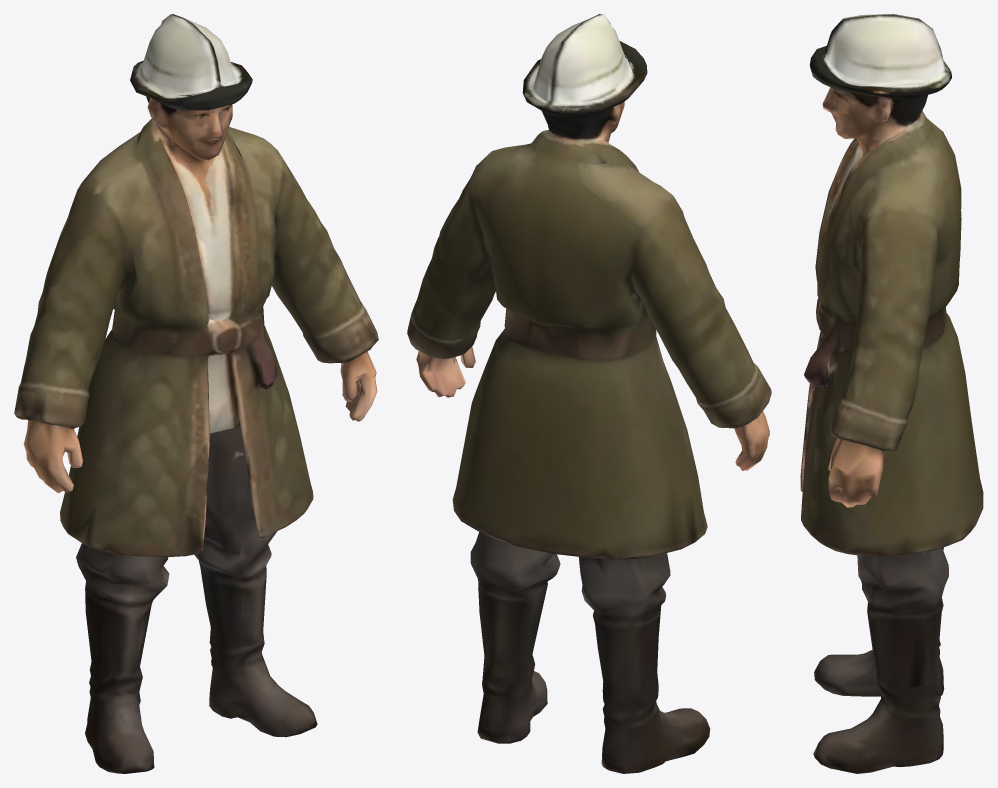
The model's file is herder-erlan.gen.glb.
The picture shows the model from 3 angles, left to right: view 1: azimuth 30°, elevation 25°; view 2: azimuth 150°, elevation 25°; view 3: azimuth 270°, elevation 25°; orthographic projection.
Parts seen in each view (by area): view 1: herder-erlan.raw; view 2: herder-erlan.raw; view 3: herder-erlan.raw.
Boxes of the visible parts, <box> form: herder-erlan.raw: <box>14,14,378,773</box>; herder-erlan.raw: <box>407,14,771,773</box>; herder-erlan.raw: <box>800,14,983,773</box>.
Size of the model in its own units: 0.9566 by 1.85 by 0.4318.
Materials: 1 (1 with a texture image).
